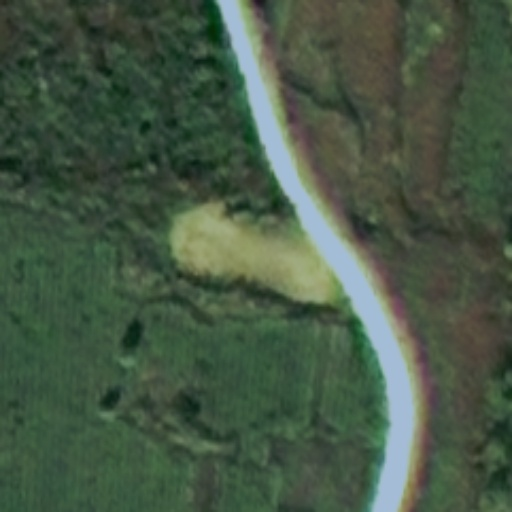landslide: (169, 206, 338, 304)
